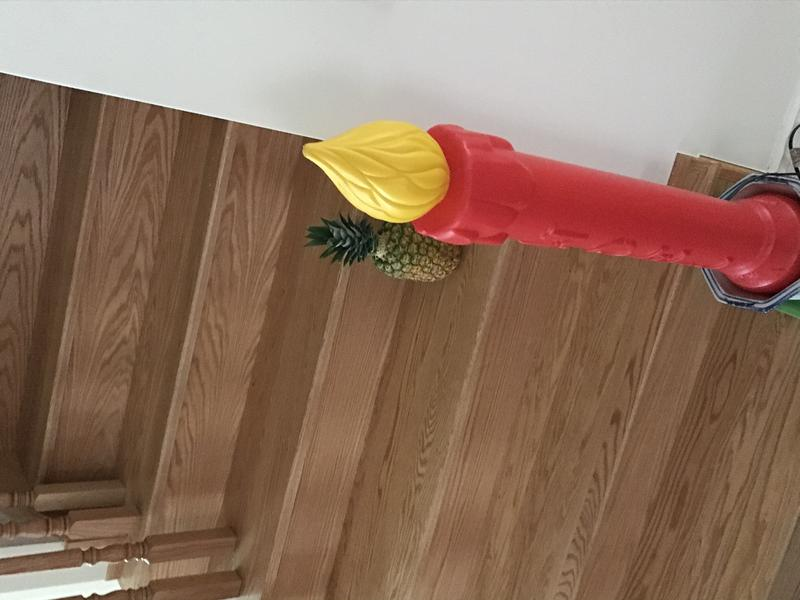pineapple: (293, 206, 470, 292)
